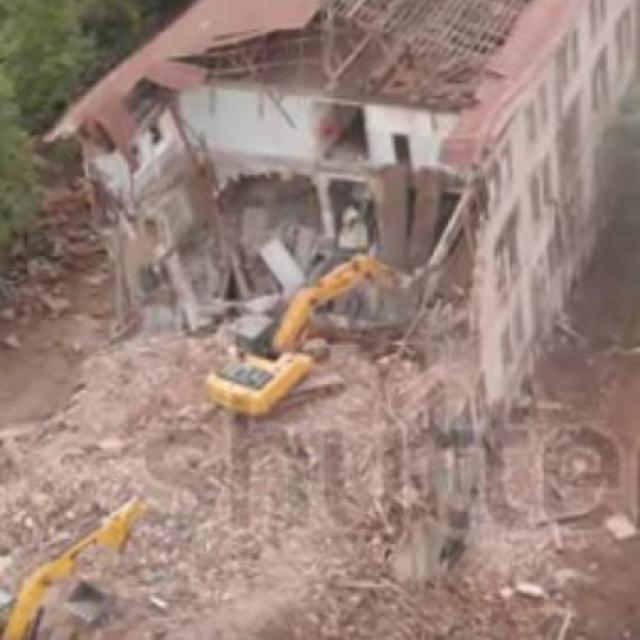collapsed_building: (116, 61, 527, 430)
